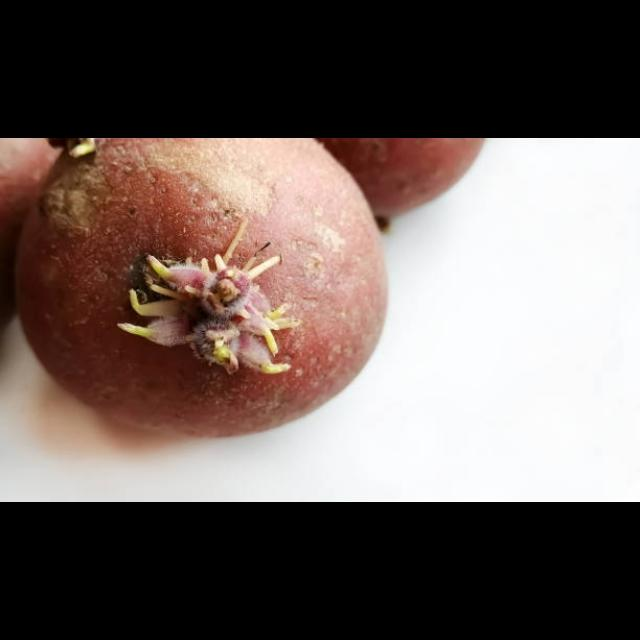Sprouted potato: (4, 138, 398, 442)
